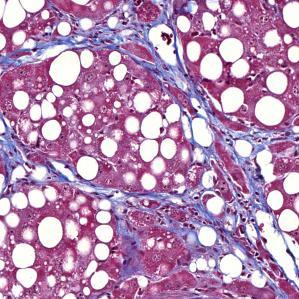fibrosis: (172, 174, 273, 252), (150, 43, 206, 110)
